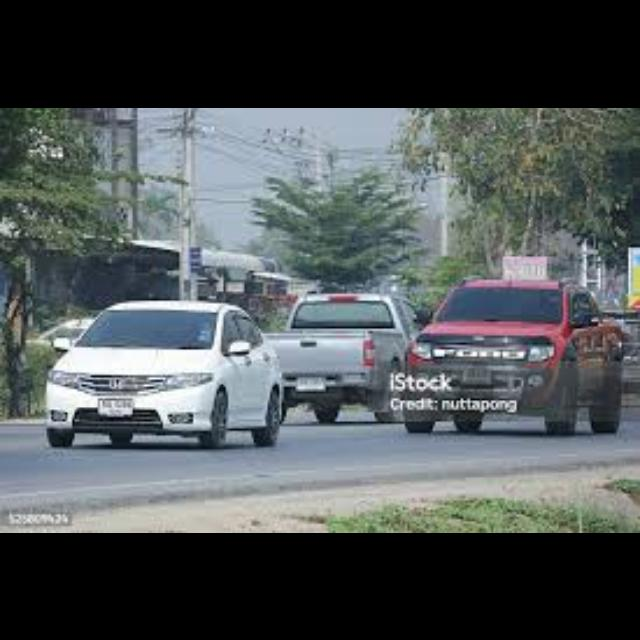vehicles: (42, 296, 276, 446), (402, 275, 624, 433), (263, 288, 417, 422)
